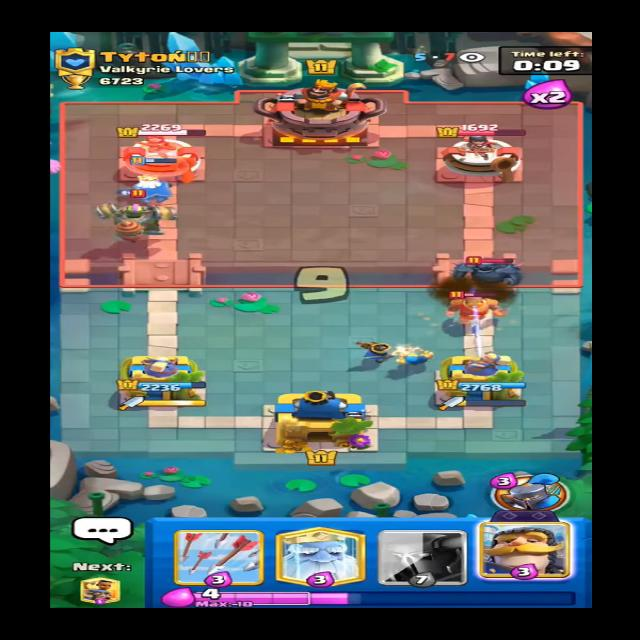goblin-machine: (97, 187, 177, 243)
knight: (444, 286, 504, 330)
pekka: (452, 246, 535, 287)
